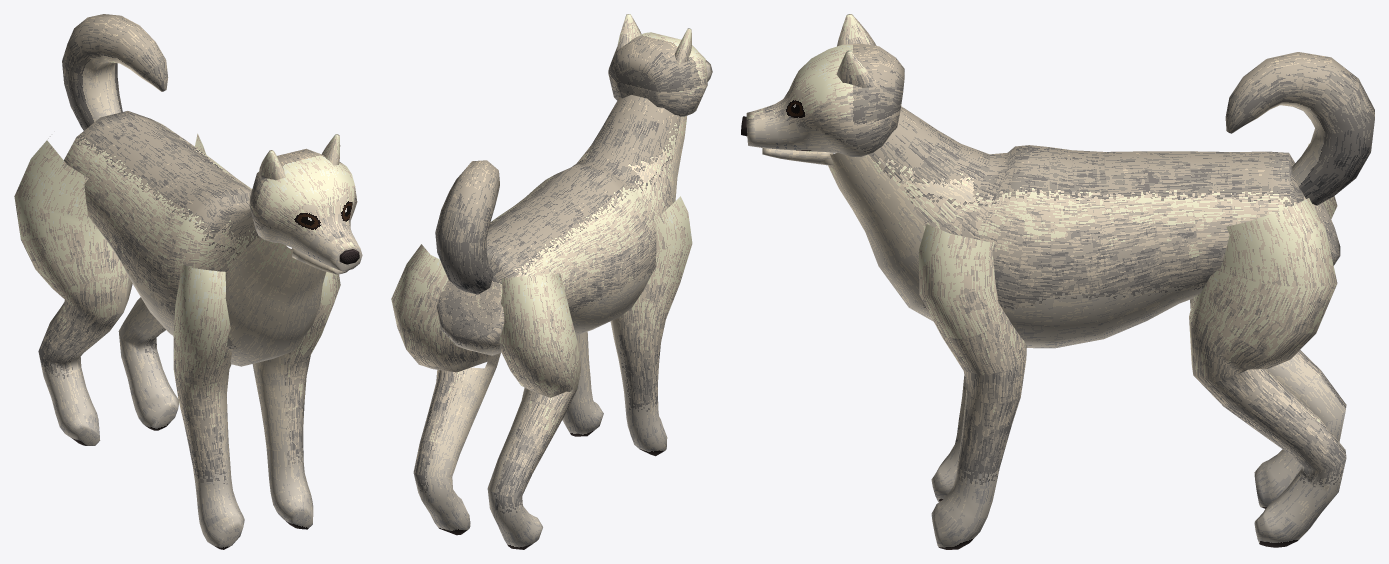
File: dog_shiro.glb
The picture shows the model from 3 angles, left to right: view 1: azimuth 30°, elevation 25°; view 2: azimuth 150°, elevation 25°; view 3: azimuth 270°, elevation 25°; orthographic projection. The views are drawn at different scales.
Parts seen in each view (by area): view 1: dog_shiro; view 2: dog_shiro; view 3: dog_shiro.
Part boxes in pixels (x1,y1,x2,y2): dog_shiro: (14, 14, 362, 549); dog_shiro: (391, 14, 712, 549); dog_shiro: (741, 14, 1374, 549).
Bounding box in the file's own units: 0.2465 × 0.5454 × 0.6336.
1 material, 1 textured.
